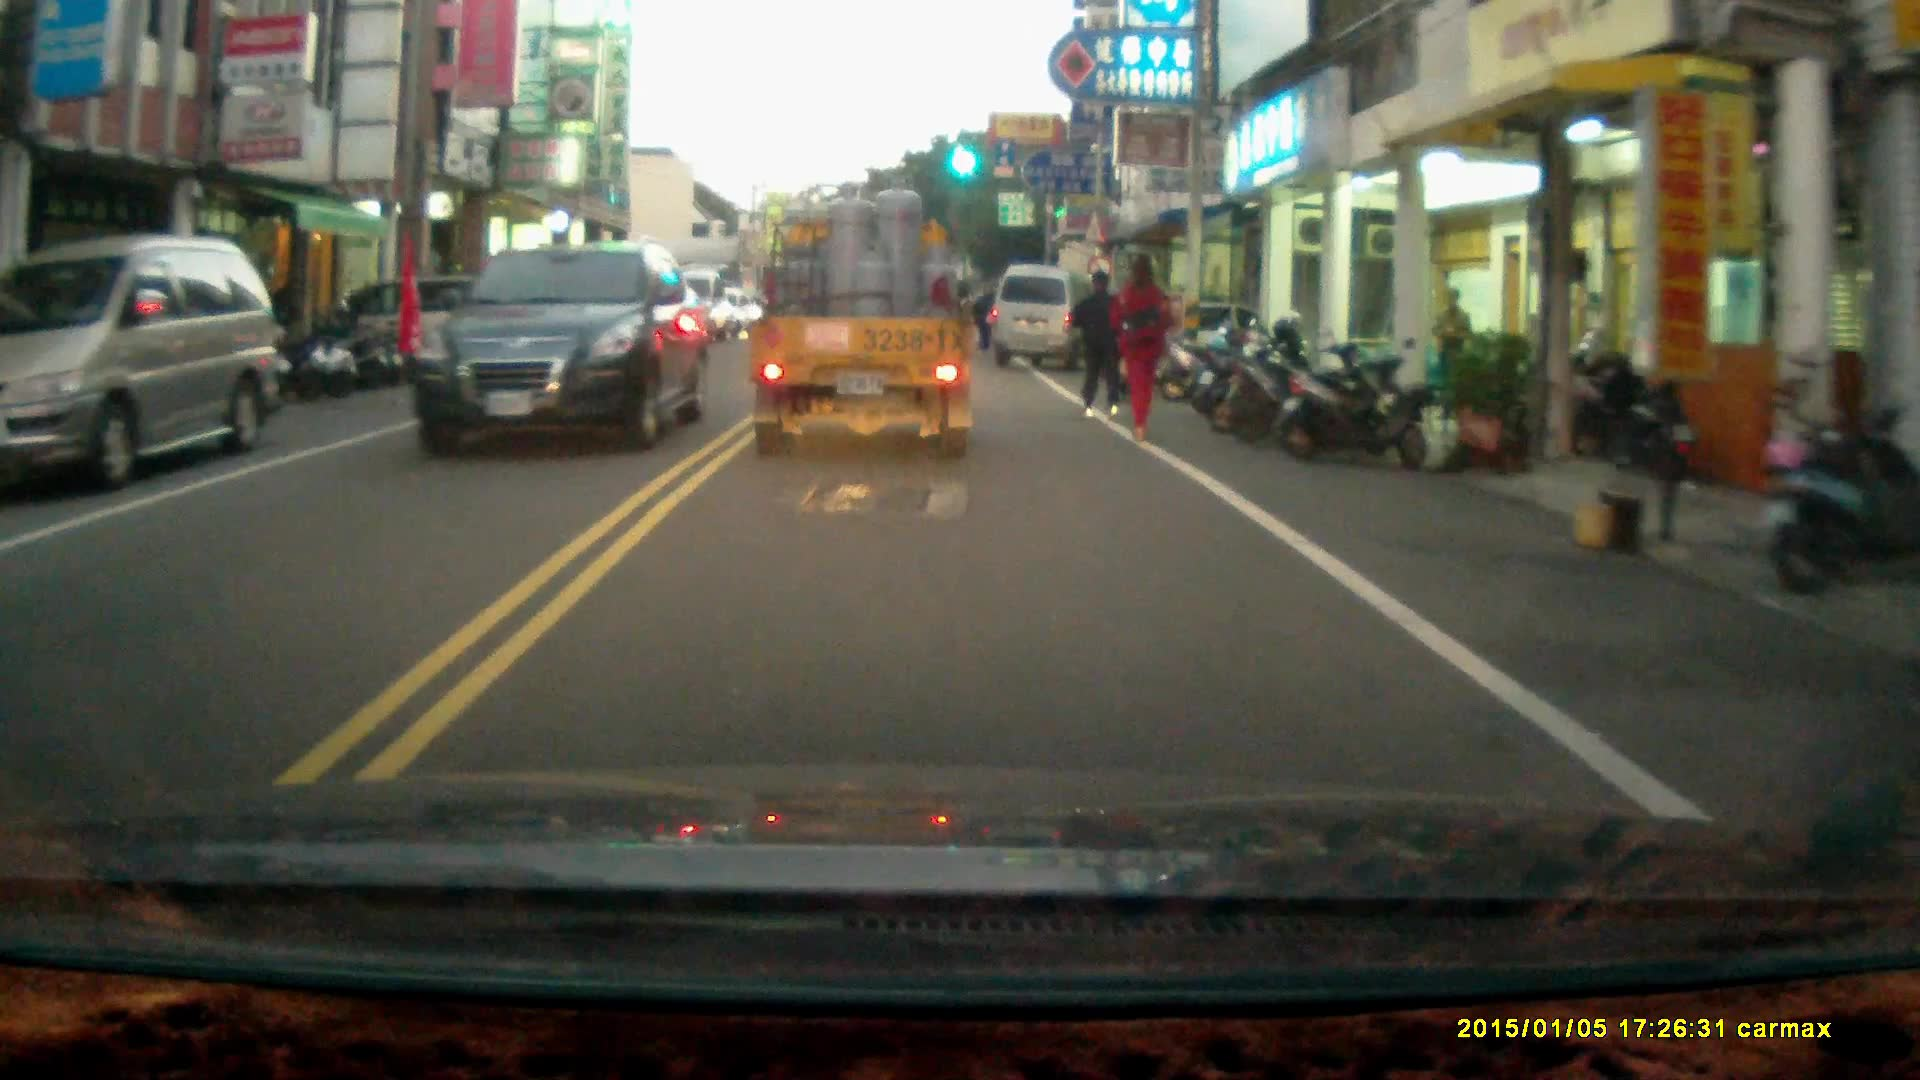pedestrian: (1111, 253, 1176, 439), (1074, 267, 1129, 425), (1429, 285, 1473, 405)
vehicle: (1, 241, 286, 491), (746, 173, 983, 467), (414, 240, 707, 452), (307, 289, 549, 382), (994, 267, 1105, 374)
